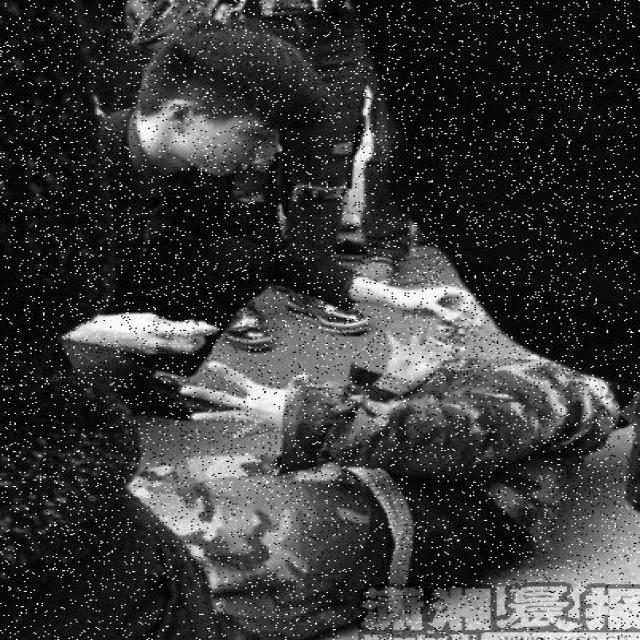fall: (207, 351, 632, 638)
